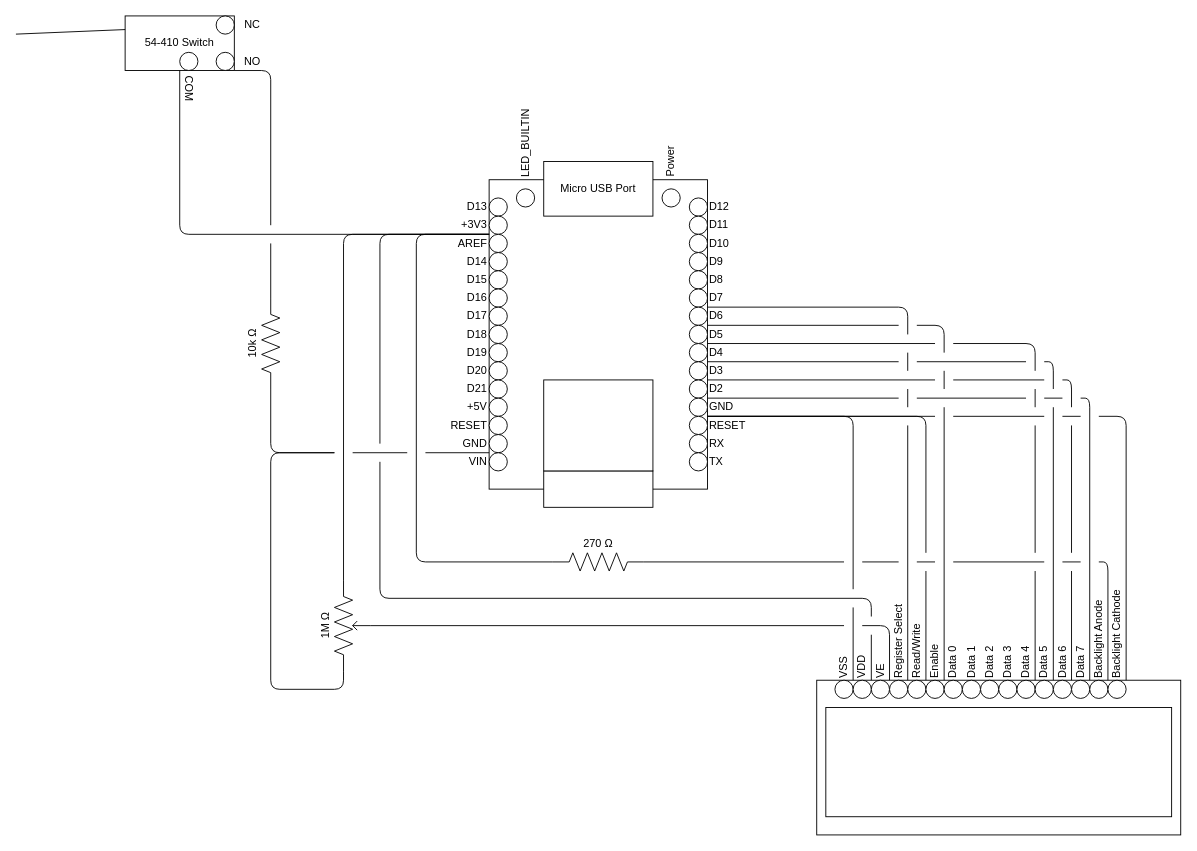
This 1197x851 diagram has some shape labels left out. Here are the shapes that lost their labels. From the top down, the box of each, then its label:
(488, 179, 708, 489): Arduino Nano 33 IoT
(825, 707, 1172, 817): LCD HD44780
